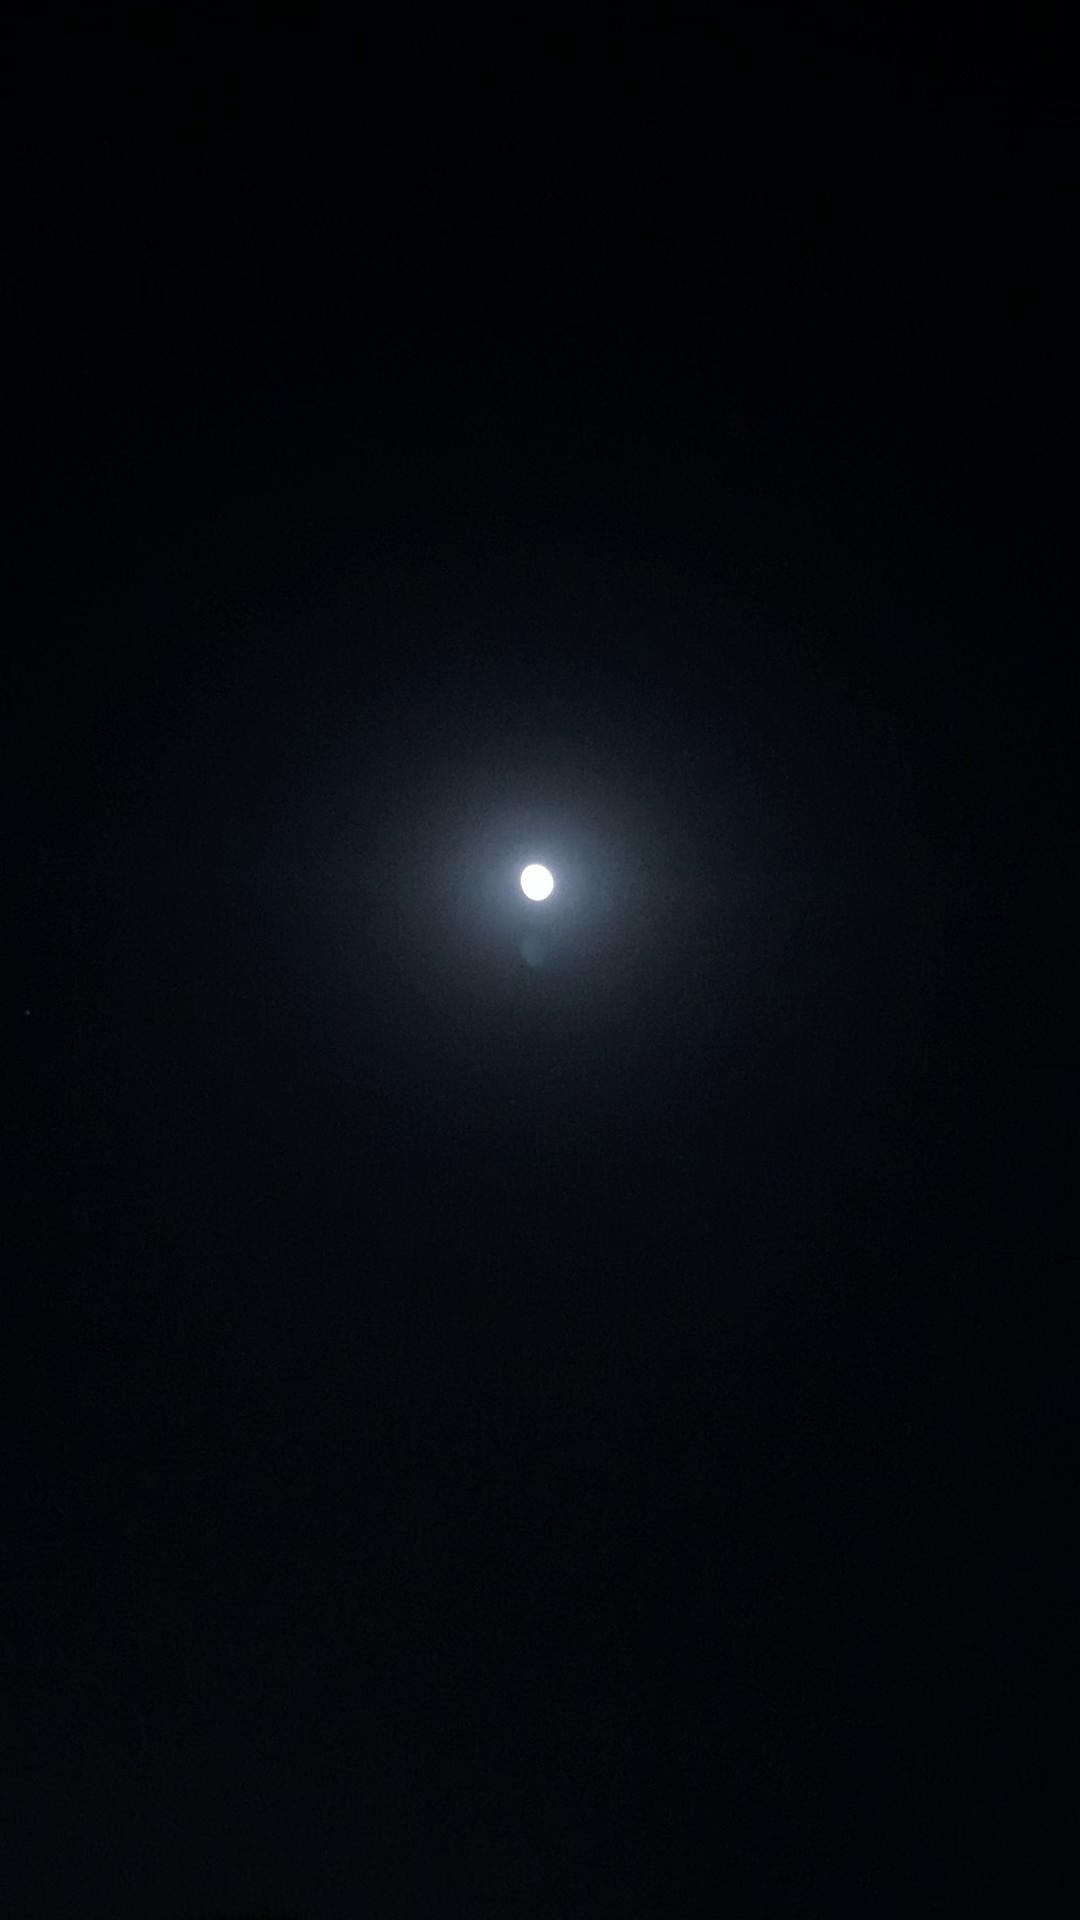moon: (496, 836, 583, 931)
